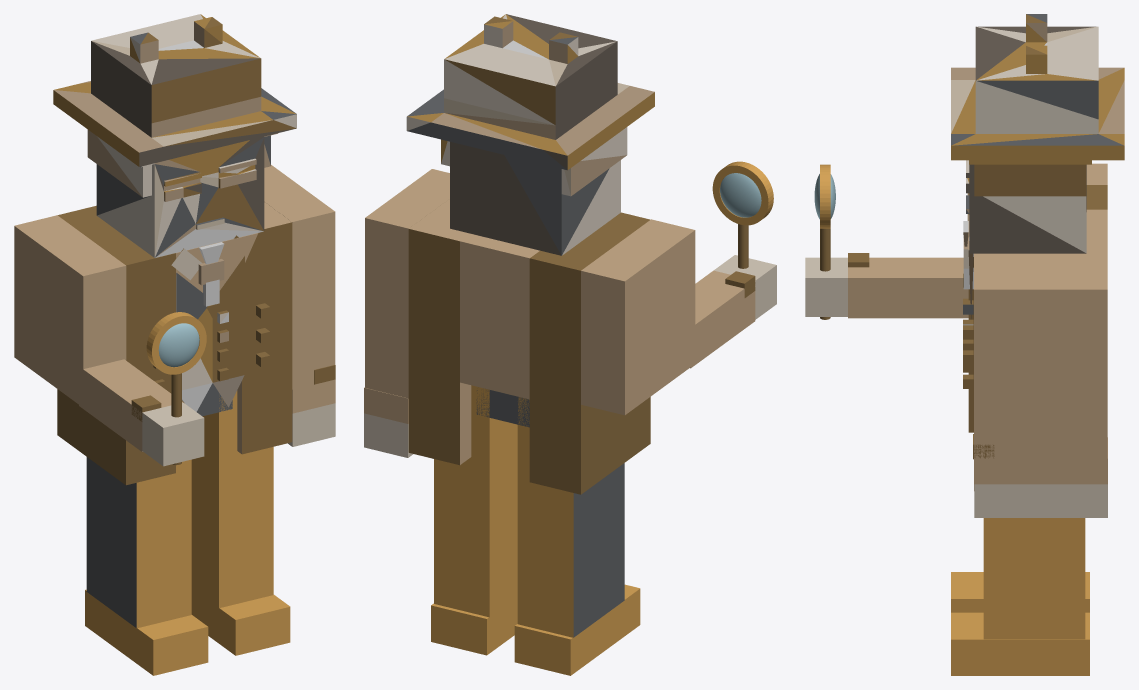
File: kasi.glb
3 views of the same model, side by side, from view 1: azimuth 30°, elevation 25°; view 2: azimuth 150°, elevation 25°; view 3: azimuth 270°, elevation 25° (orthographic).
Visible parts, largest first — view 1: Mesh_Mesh_head_geo.001_lambert2SG.001; view 2: Mesh_Mesh_head_geo.001_lambert2SG.001; view 3: Mesh_Mesh_head_geo.001_lambert2SG.001.
Boxes of the visible parts, x1,y1,x2,y2 form: Mesh_Mesh_head_geo.001_lambert2SG.001: [14, 14, 335, 675]; Mesh_Mesh_head_geo.001_lambert2SG.001: [364, 14, 776, 675]; Mesh_Mesh_head_geo.001_lambert2SG.001: [805, 14, 1124, 675].
Size of the model in its own units: 56.93 by 125 by 59.76.
